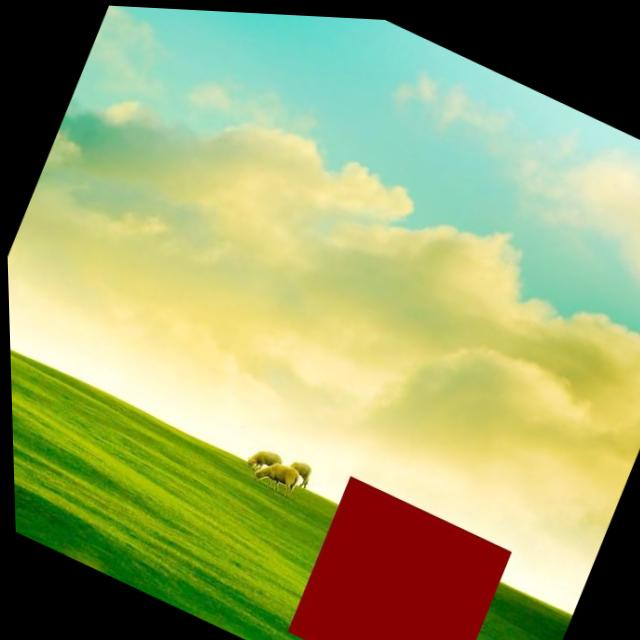RedSquare: (270, 459, 524, 640)
